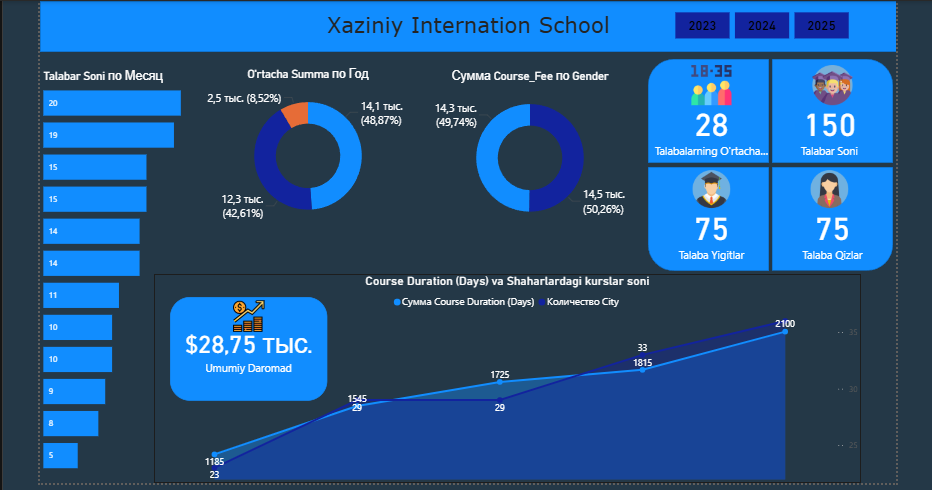

The page's visual inventory and layout, read from the dashboard file:
{"tool":"powerbi","page":{"name":"Страница 1","canvas":[1280,720],"ordinal":0},"visuals":[{"type":"shape","box":[0,0,1280.2,76.2],"z":0},{"type":"advancedSlicerVisual","fields":{"Values":["Education_Center.Registration_Date.Изменение.Иерархия дат.Год"]},"box":[944.1,12,270.4,49.3],"z":1000},{"type":"textbox","box":[0,0,1280.2,76.2],"z":2000},{"type":"clusteredBarChart","fields":{"Y":["Education_Center.Talabar Soni"],"Category":["Education_Center.Registration_Date.Изменение.Иерархия дат.Месяц"]},"box":[0,101.6,234.5,602],"z":3000},{"type":"donutChart","fields":{"Category":["Education_Center.Registration_Date.Изменение.Иерархия дат.Год"],"Y":["Education_Center.O'rtacha Summa"]},"box":[234.5,98.6,331.6,246.5],"z":4000},{"type":"areaChart","title":"Course Duration (Days) va Shaharlardagi kurslar soni","fields":{"Category":["Education_Center.Course"],"Y":["Education_Center.Course Duration (Days)"],"Y2":["Education_Center.City"]},"box":[170.3,407.8,1056.1,312.2],"z":4001},{"type":"donutChart","fields":{"Category":["Education_Center.Gender"],"Y":["Education_Center.Course_Fee"]},"box":[566.1,101.6,331.6,246.5],"z":4002},{"type":"shape","box":[908.2,248,180.7,155.4],"z":4003},{"type":"shape","box":[1093.4,86.6,180.7,155.4],"z":4004},{"type":"shape","box":[1093.4,248,180.7,155],"z":4005},{"type":"shape","box":[908.2,86.6,180.7,155.4],"z":4006},{"type":"card","fields":{"Values":["Education_Center.Talabalarning O'rtabha Yoshi"]},"box":[912.7,112,180.7,155.4],"z":4007},{"type":"card","fields":{"Values":["Education_Center.Umumiy Daromad"]},"box":[194.2,442.2,234.5,155.4],"z":4008},{"type":"card","fields":{"Values":["Education_Center.Talaba Yigitlar"]},"box":[912.7,267.4,180.7,155.4],"z":4009},{"type":"card","fields":{"Values":["Education_Center.Talaba Qizlar"]},"box":[1093.4,267.4,180.7,155.4],"z":4010},{"type":"card","fields":{"Values":["Education_Center.Talabar Soni"]},"box":[1089,112,180.7,155.4],"z":4011},{"type":"image","box":[968,242,70.2,77.7],"z":4012},{"type":"image","box":[1144.2,242,70.2,77.7],"z":4013},{"type":"image","box":[1148.7,86.6,70.2,77.7],"z":4014},{"type":"image","box":[267.4,442.2,88.1,56.8],"z":4015},{"type":"image","box":[968,86.6,70.2,77.7],"z":4016}]}

Visuals, with their boxes on the page's 1280x720 design canvas (x1, y1, x2, y2). These are canvas units, not pixel positions in the 932x490 screenshot, which may show the page scaled, cropped or inside an application window:
shape: 0/0/1280/76
advancedSlicerVisual - Education_Center.Registration_Date.Изменение.Иерархия дат.Год: 944/12/1214/61
textbox: 0/0/1280/76
clusteredBarChart - Education_Center.Talabar Soni x Education_Center.Registration_Date.Изменение.Иерархия дат.Месяц: 0/102/234/704
donutChart - Education_Center.Registration_Date.Изменение.Иерархия дат.Год x Education_Center.O'rtacha Summa: 234/99/566/345
"Course Duration (Days) va Shaharlardagi kurslar soni" areaChart: 170/408/1226/720
donutChart - Education_Center.Gender x Education_Center.Course_Fee: 566/102/898/348
shape: 908/248/1089/403
shape: 1093/87/1274/242
shape: 1093/248/1274/403
shape: 908/87/1089/242
card - Education_Center.Talabalarning O'rtabha Yoshi: 913/112/1093/267
card - Education_Center.Umumiy Daromad: 194/442/429/598
card - Education_Center.Talaba Yigitlar: 913/267/1093/423
card - Education_Center.Talaba Qizlar: 1093/267/1274/423
card - Education_Center.Talabar Soni: 1089/112/1270/267
image: 968/242/1038/320
image: 1144/242/1214/320
image: 1149/87/1219/164
image: 267/442/356/499
image: 968/87/1038/164
